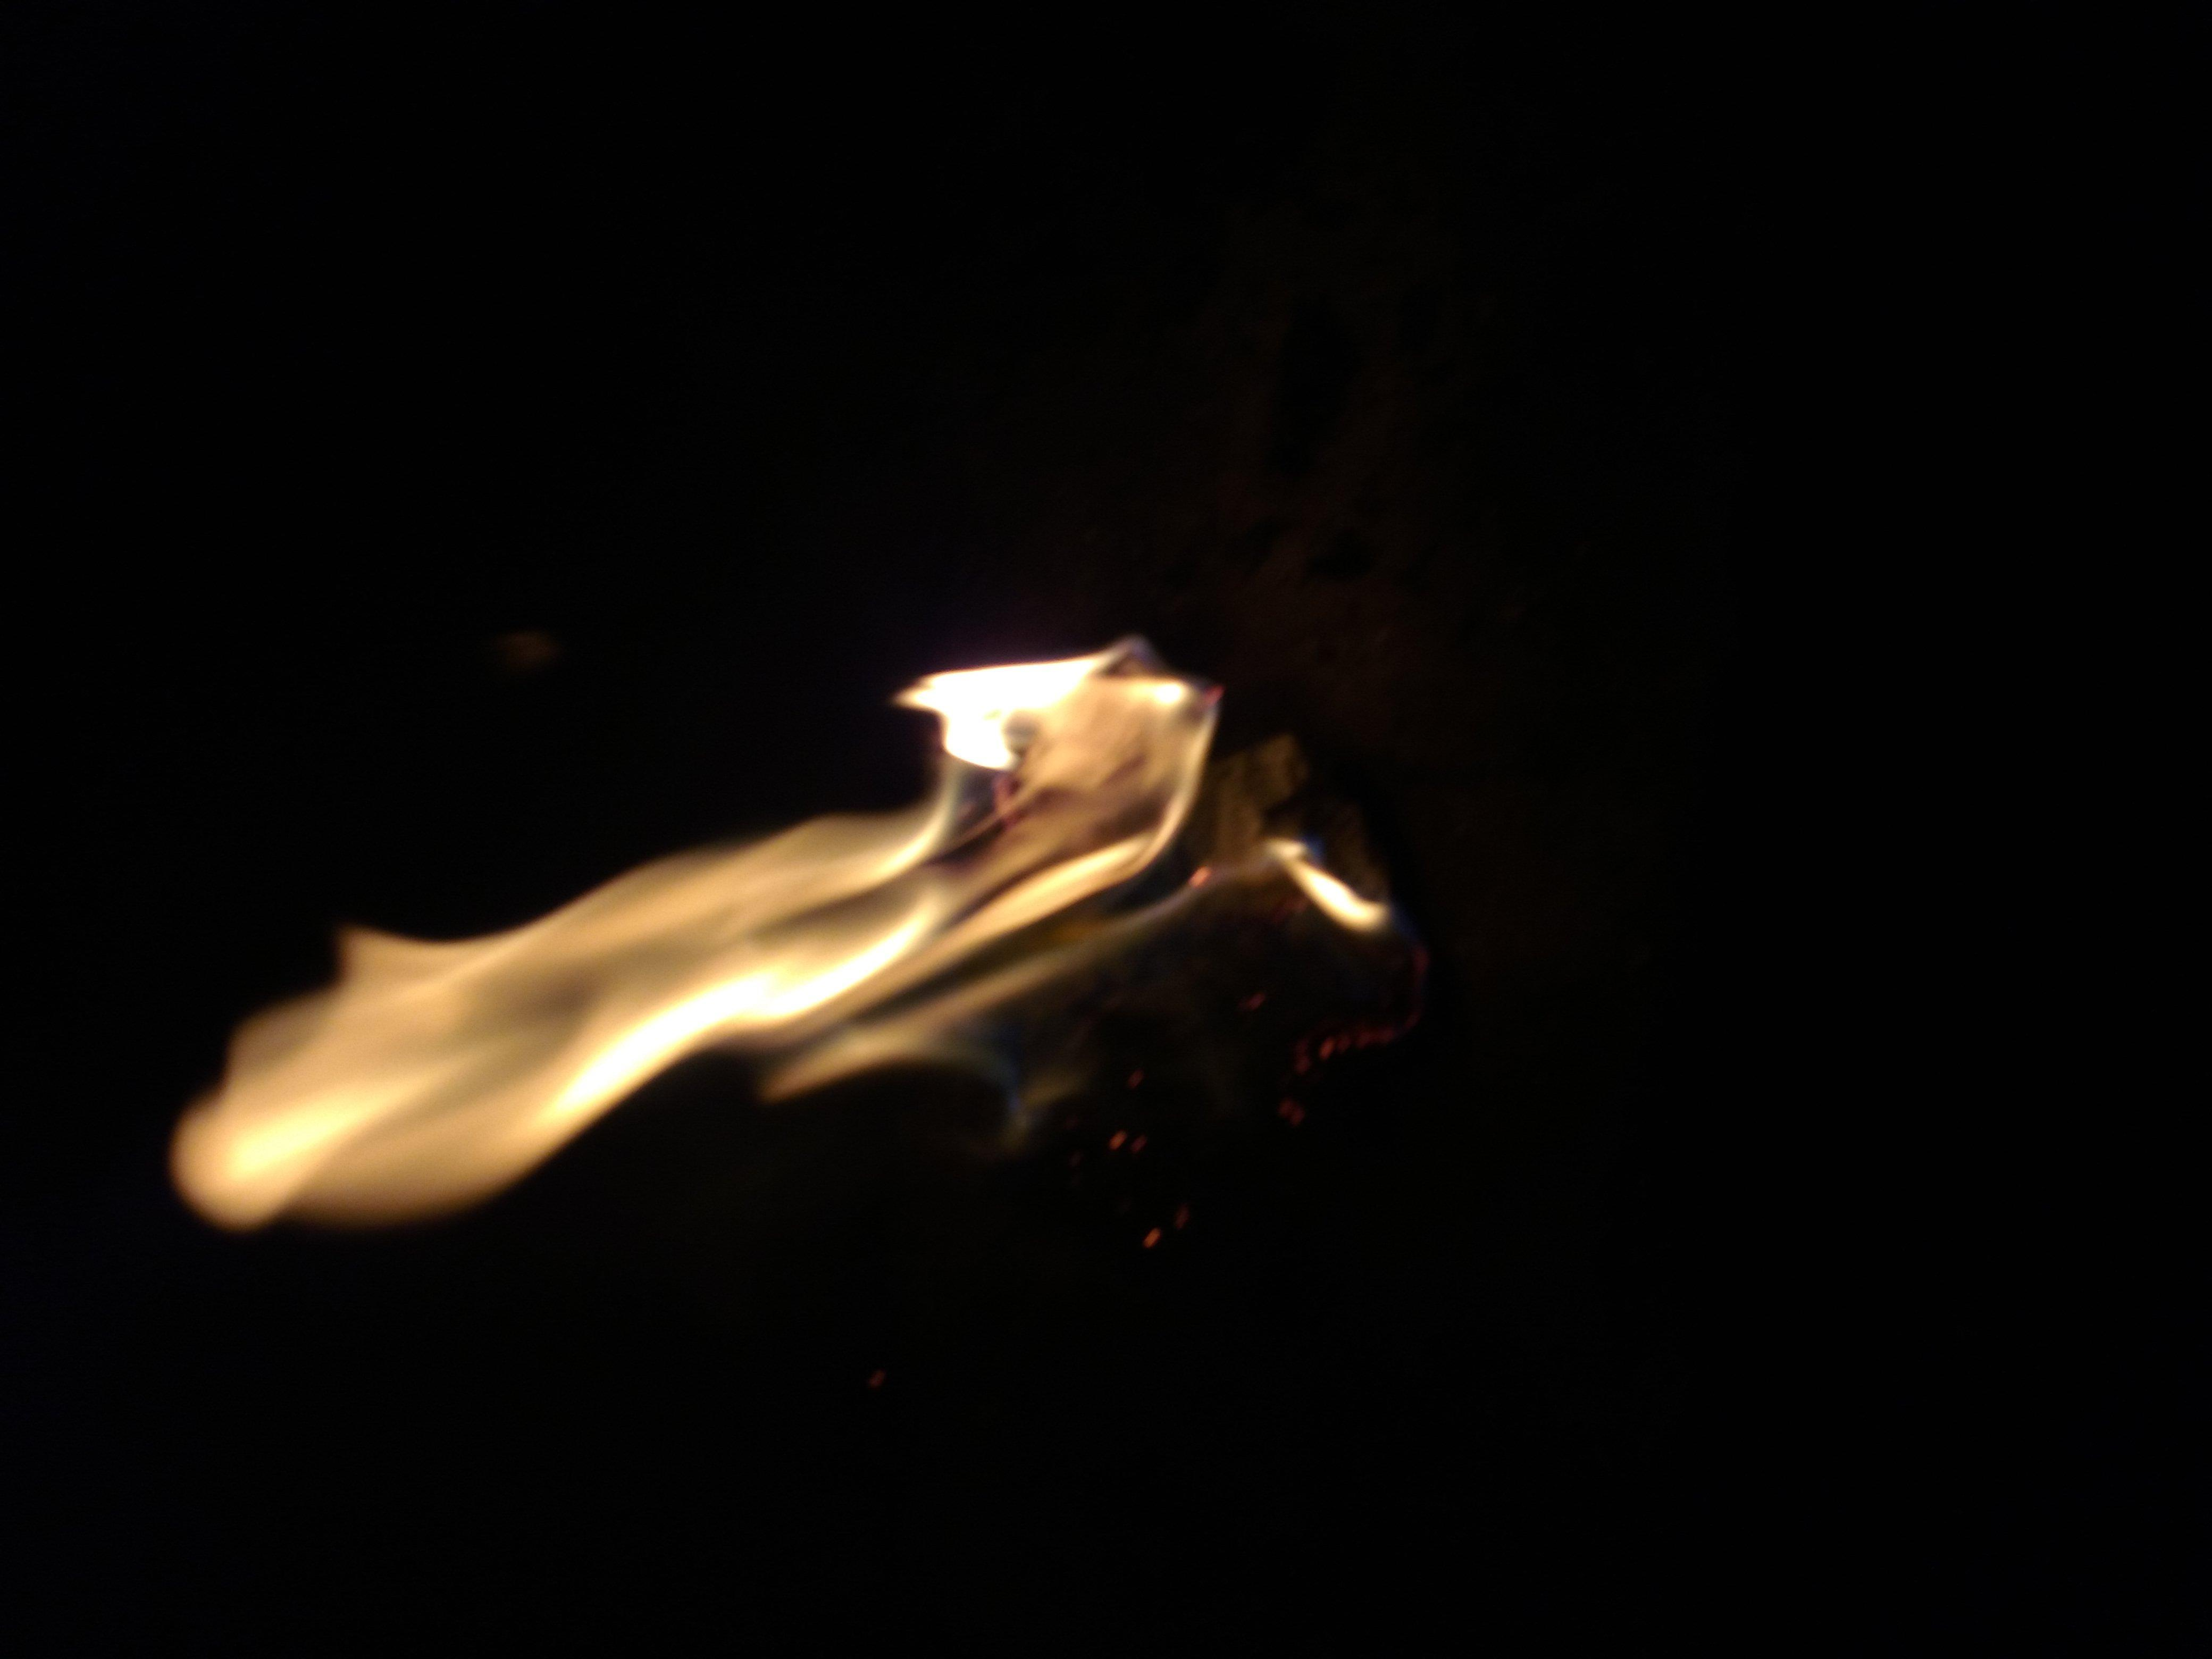fire: (547, 118, 1374, 1054)
